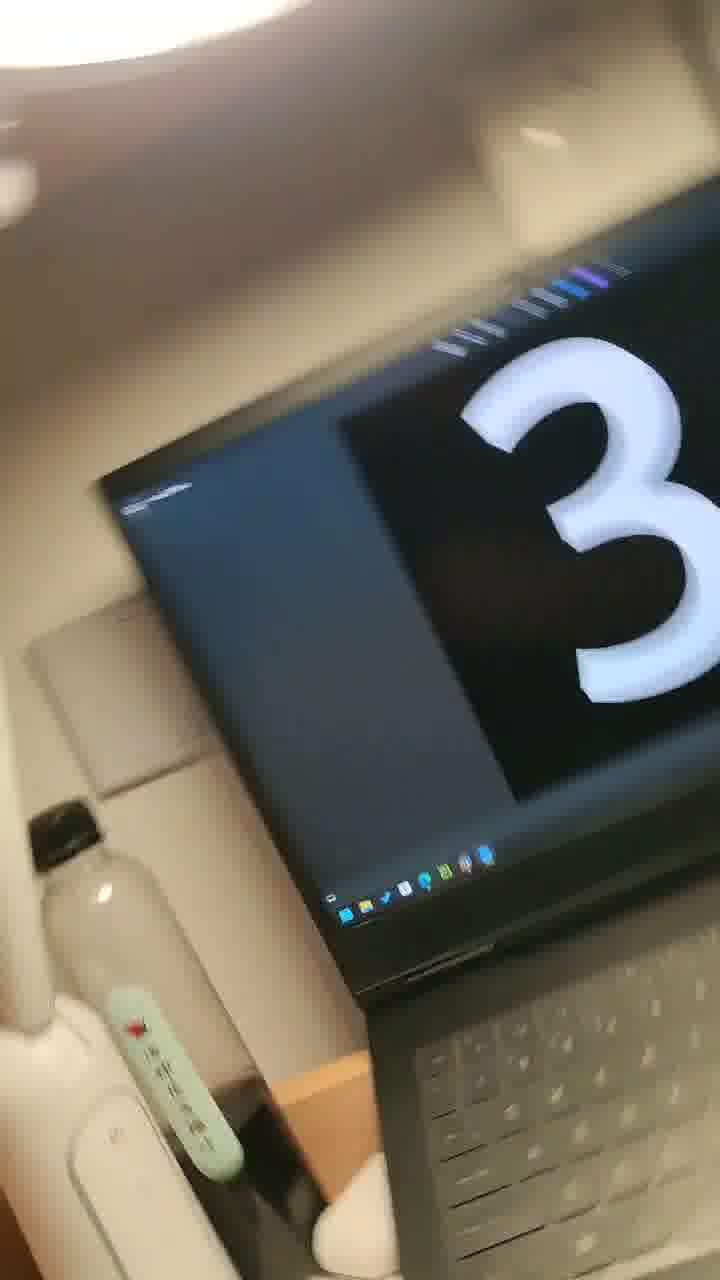three: (392, 275, 720, 884)
